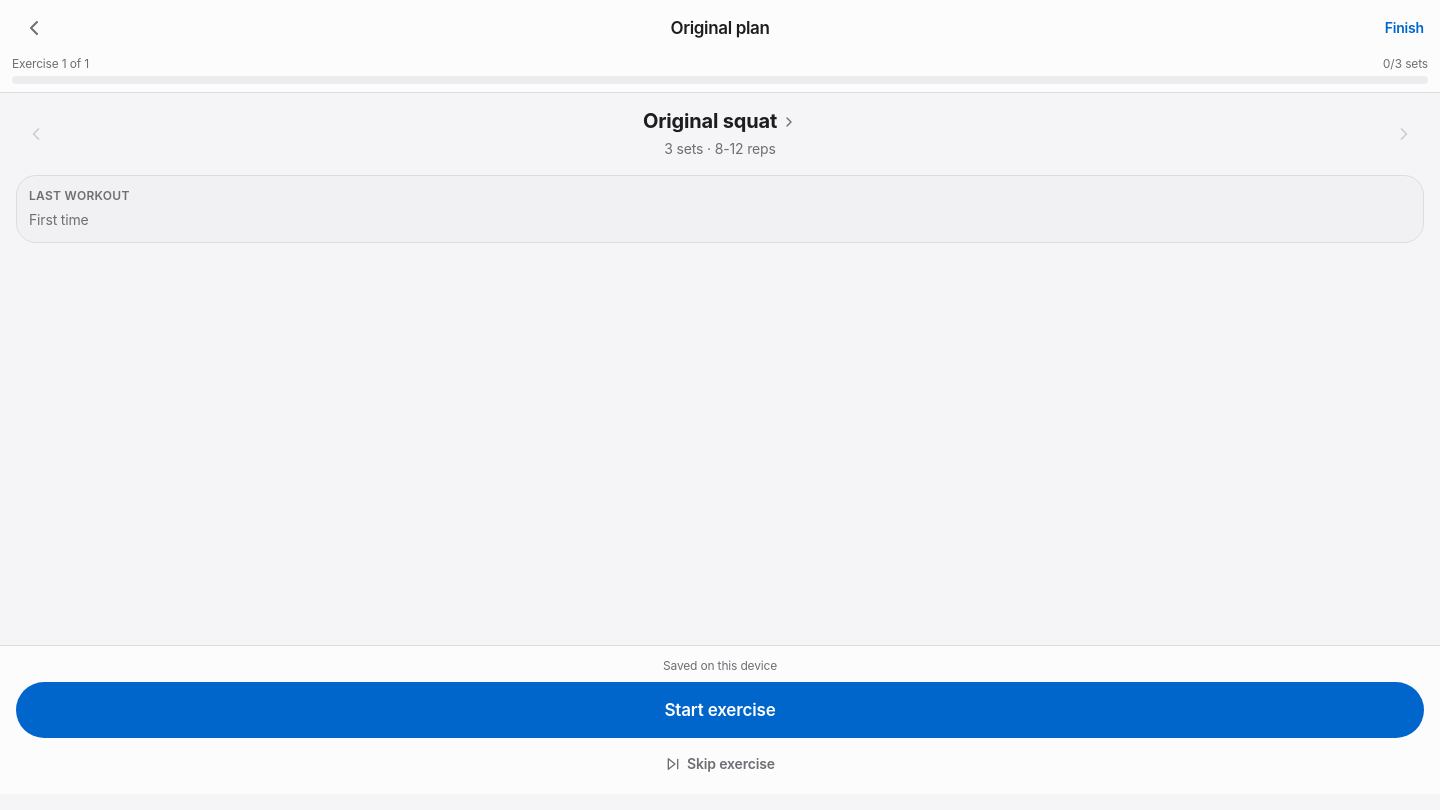
Scenario: prevents double saves and keeps entry values available after a failed local save
Click the button "Start exercise": click(720, 710) [16,682,1424,738]
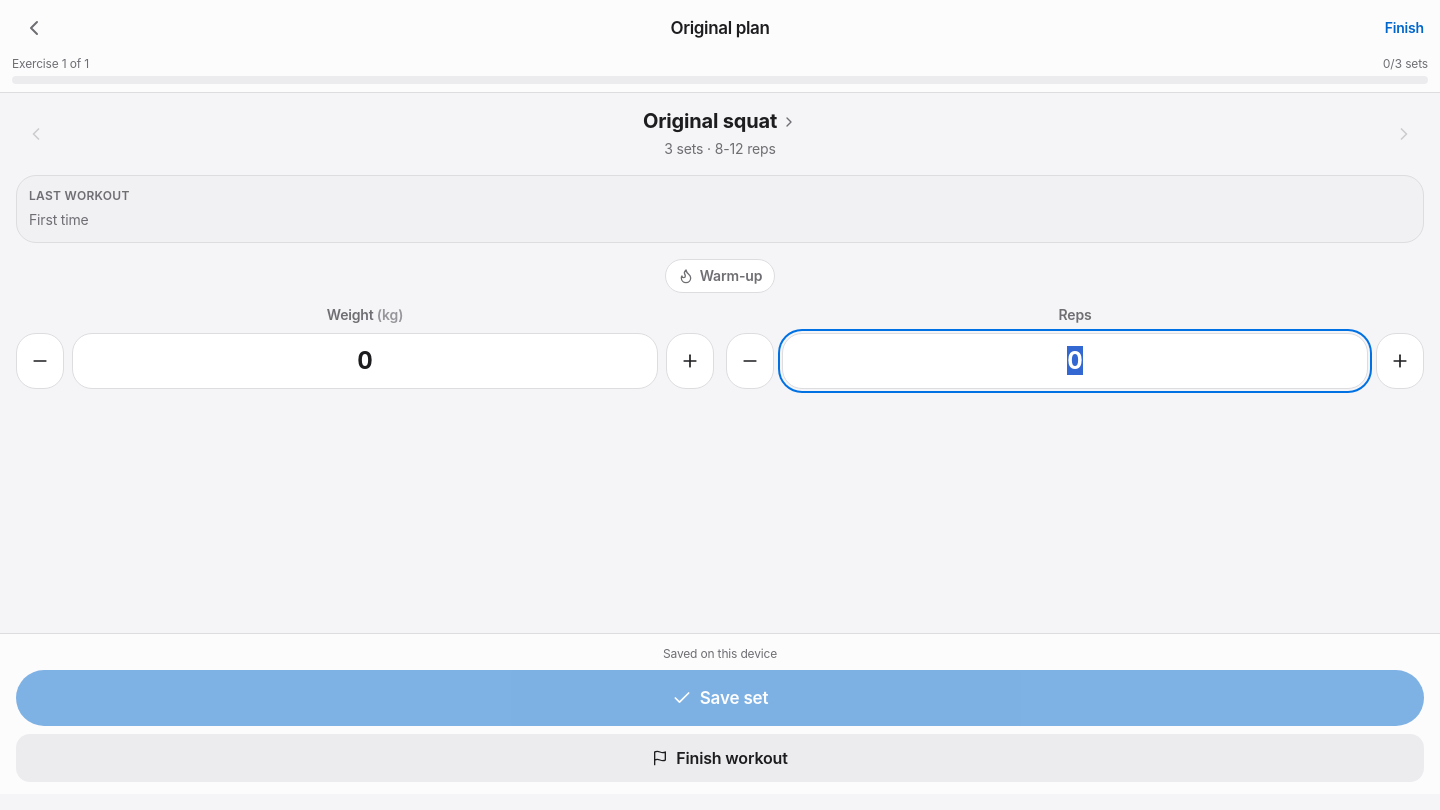
Click the button named "Increase Reps": click(1400, 361) [1376,333,1424,389]
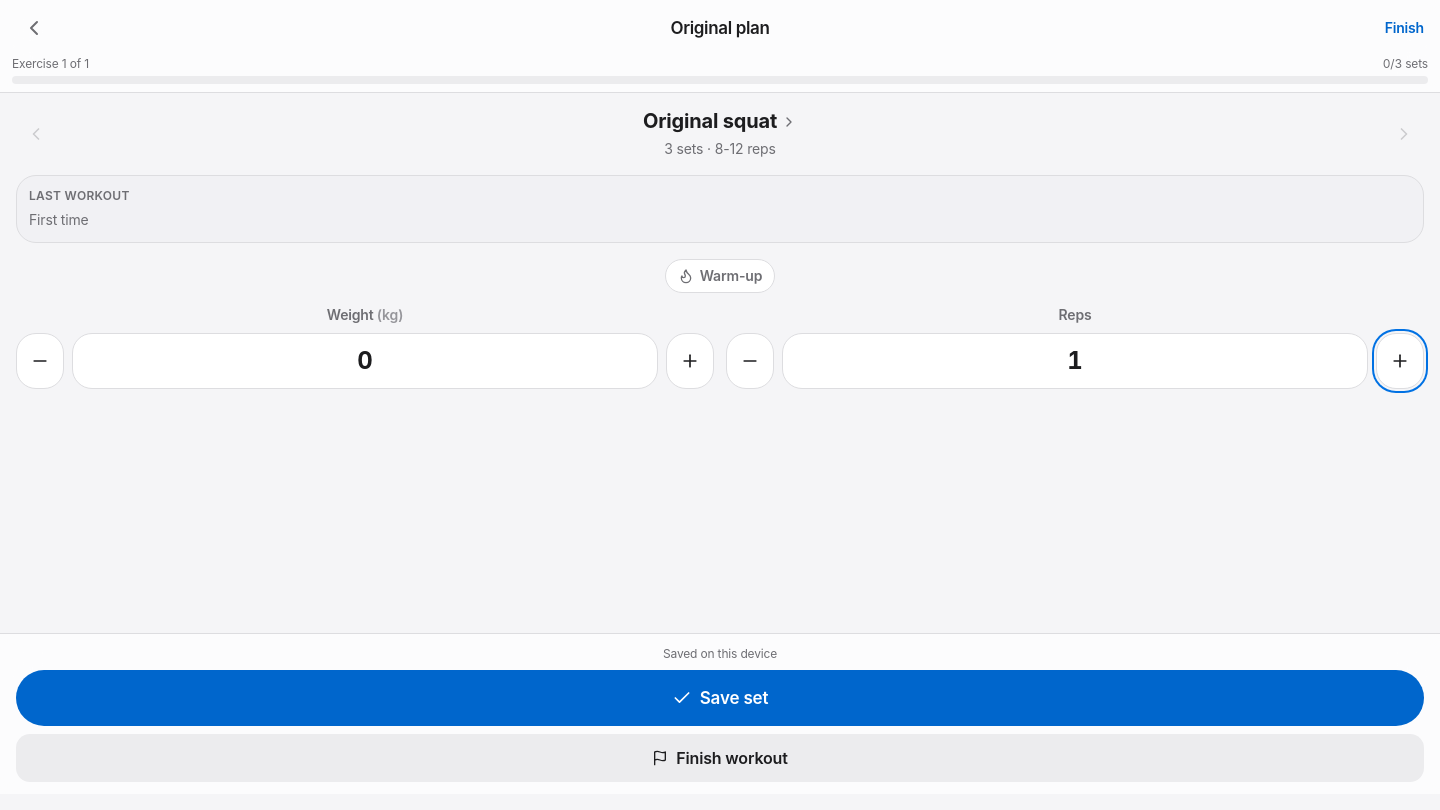
Double-click the button "Save set": (720, 698) [16,670,1424,726]
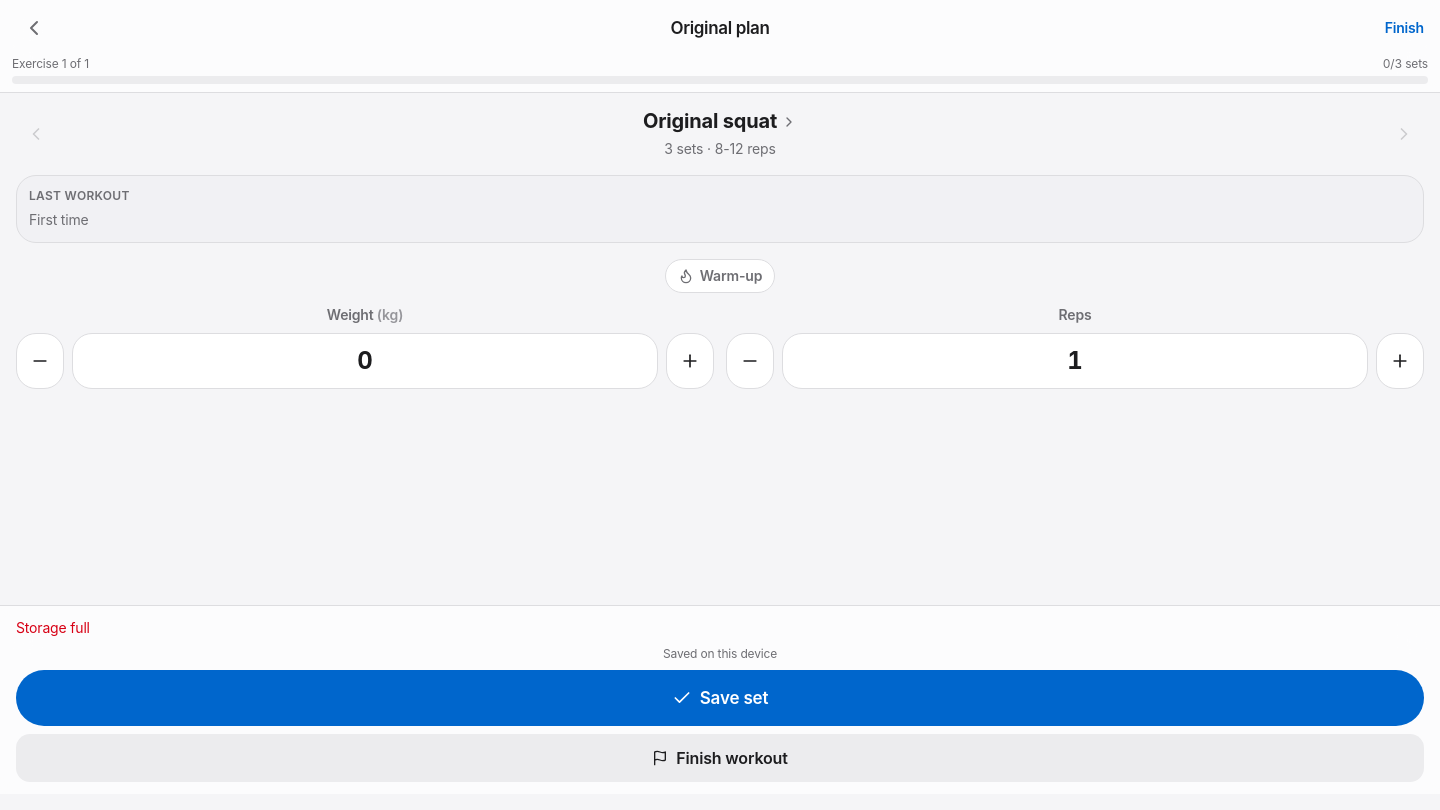
Now the button "Save set" is enabled, box [16,670,1424,726]
Now the field named "Reps" holds "1", box [782,333,1368,389]
Now the message "Storage full" is shown, box [16,619,90,636]
